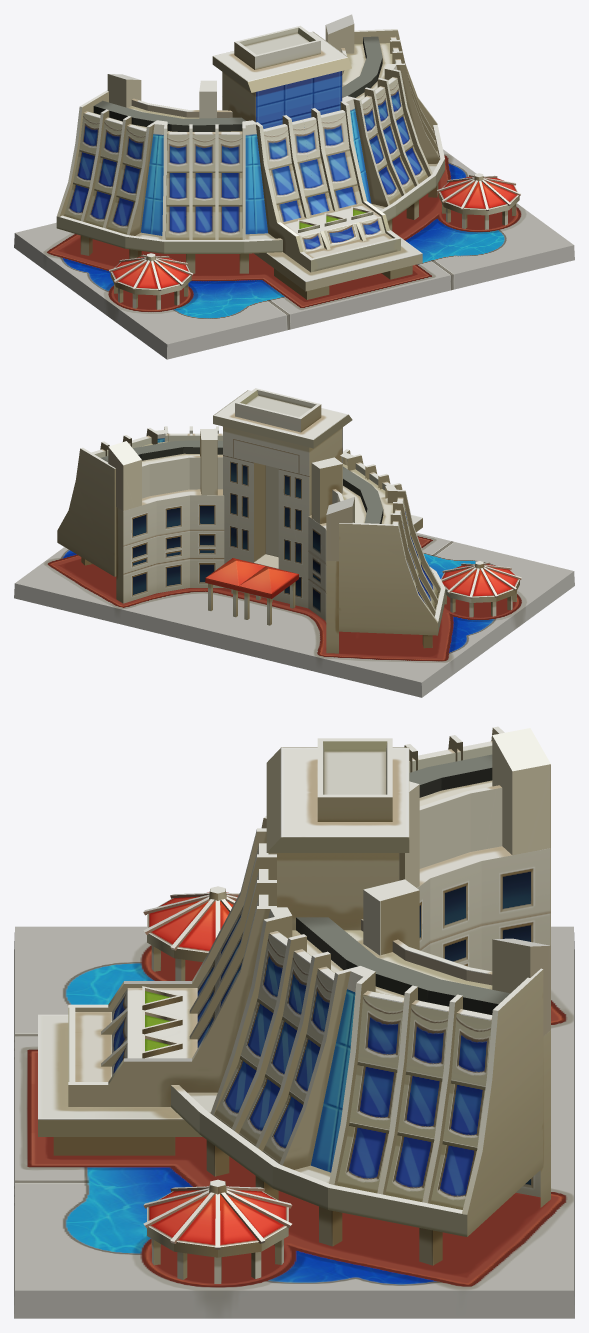
The model's file is jiudian.FBX.
3 renders of one model, top to bottom at view 1: azimuth 30°, elevation 25°; view 2: azimuth 150°, elevation 25°; view 3: azimuth 270°, elevation 25°, orthographic. The views are drawn at different scales.
Visible parts, largest first — view 1: jiudian; view 2: jiudian; view 3: jiudian.
Boxes of the visible parts, x1=… form: jiudian: x1=14, y1=14, x2=574, y2=359; jiudian: x1=14, y1=388, x2=574, y2=697; jiudian: x1=14, y1=726, x2=574, y2=1318.
Size of the model in its own units: 2436 by 1145 by 1582.
1 material, 1 textured.
